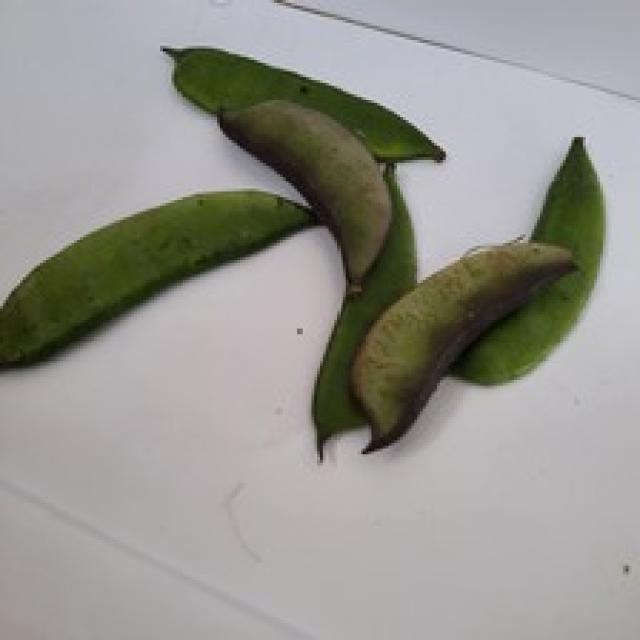Bean: (0, 186, 320, 371), (346, 237, 577, 452), (446, 134, 606, 386), (157, 40, 446, 166), (215, 94, 392, 289), (309, 163, 417, 460)
